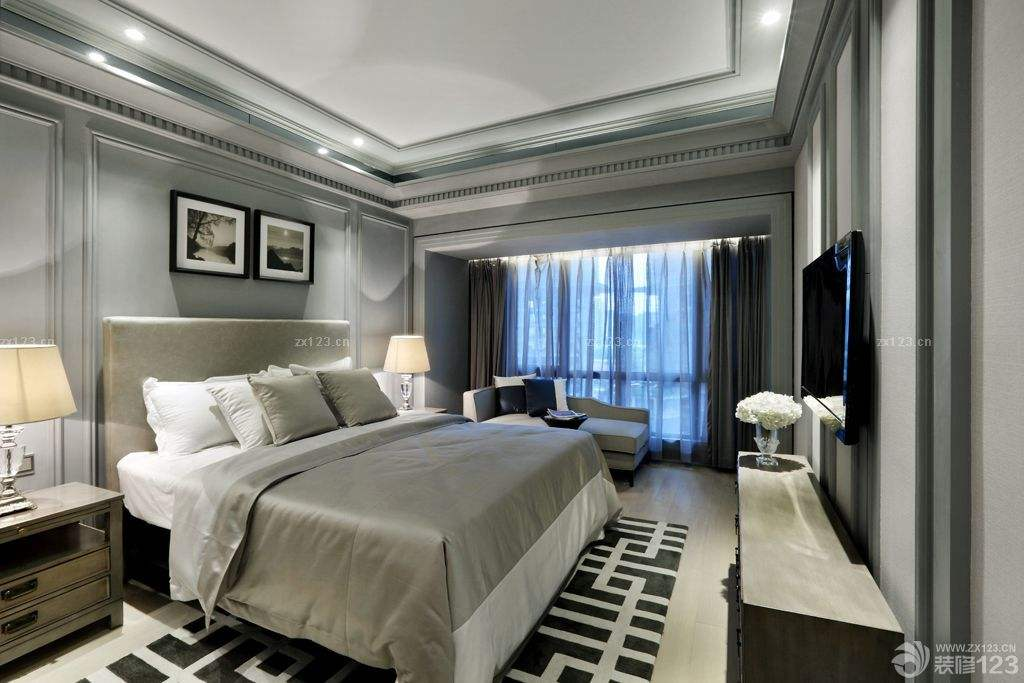床: (113, 403, 614, 664)
枕头: (134, 360, 407, 457), (482, 376, 568, 417)
灯: (1, 337, 71, 507), (373, 331, 428, 412), (306, 145, 330, 161)
